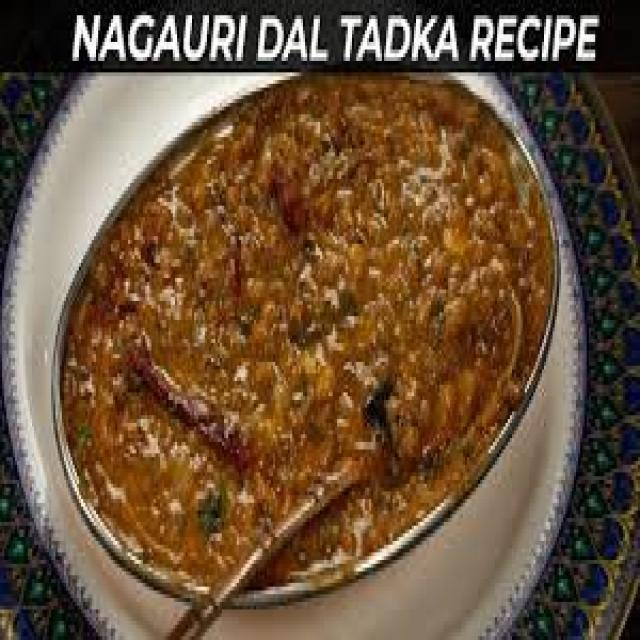dal: (58, 278, 527, 534)
